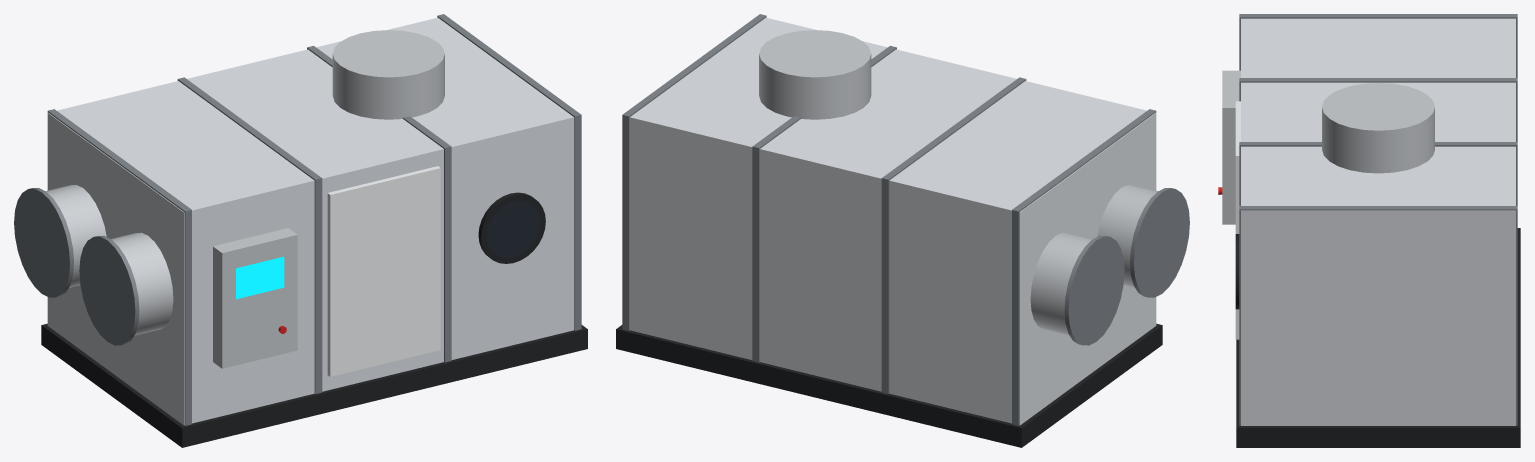
Rendered from hvac.glb.
The picture shows the model from 3 angles, left to right: view 1: azimuth 30°, elevation 25°; view 2: azimuth 150°, elevation 25°; view 3: azimuth 270°, elevation 25°; orthographic projection.
Parts seen in each view (by area): view 1: SimReady_HVAC_HeatRecovery_Unit; view 2: SimReady_HVAC_HeatRecovery_Unit; view 3: SimReady_HVAC_HeatRecovery_Unit.
Part boxes in pixels (x1=…): SimReady_HVAC_HeatRecovery_Unit: x1=14, y1=14, x2=587, y2=447; SimReady_HVAC_HeatRecovery_Unit: x1=616, y1=14, x2=1189, y2=447; SimReady_HVAC_HeatRecovery_Unit: x1=1218, y1=14, x2=1520, y2=447.
Bounding box in the file's own units: 3.28 × 1.95 × 1.92.
